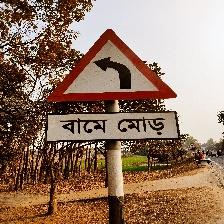Left-Turn: (42, 28, 179, 143)
